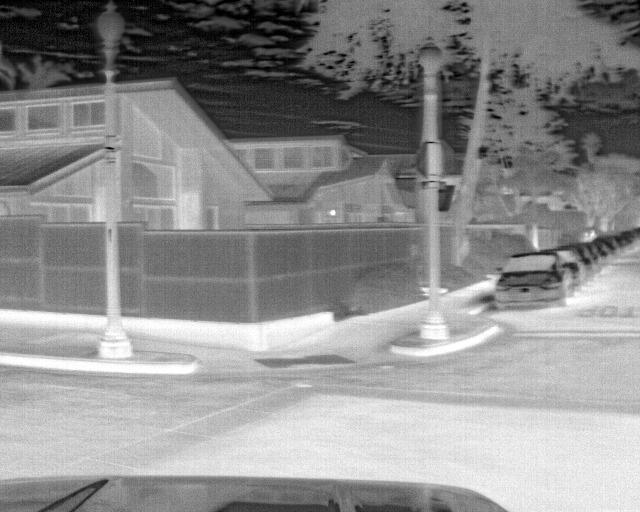car: (491, 252, 568, 312), (541, 248, 577, 297), (558, 244, 595, 284), (595, 236, 619, 257), (593, 240, 612, 266)
